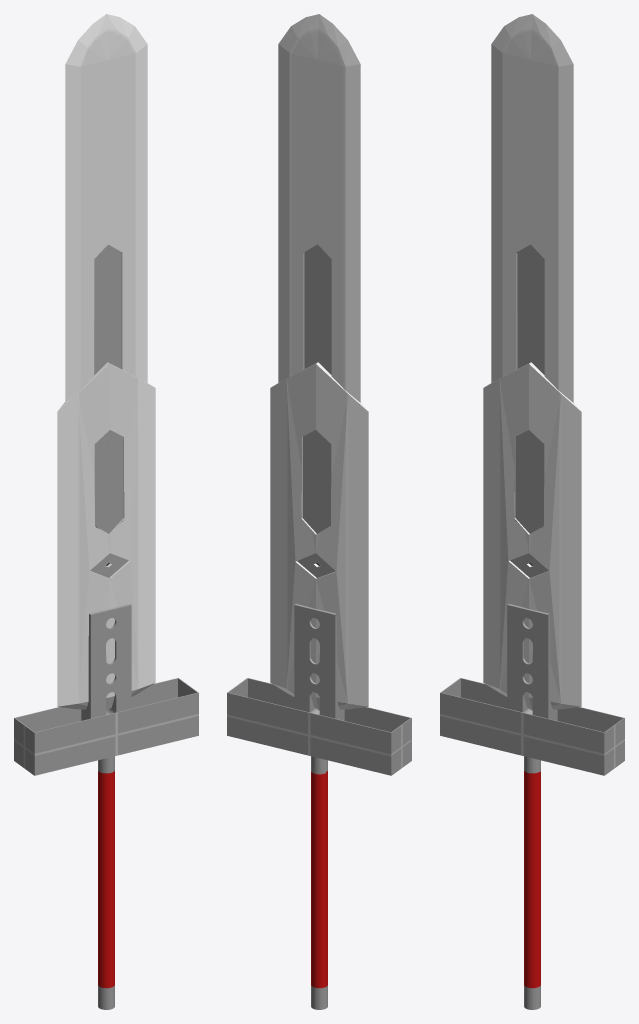
File: firstsword-closed-united.obj
The picture shows the model from 3 angles, left to right: view 1: azimuth 30°, elevation 25°; view 2: azimuth 150°, elevation 25°; view 3: azimuth 330°, elevation 25°; orthographic projection.
Visible parts, largest first — view 1: centerplate_center; view 2: centerplate_center; view 3: centerplate_center.
Boxes of the visible parts, <box> form: centerplate_center: <box>14,14,198,1009</box>; centerplate_center: <box>227,14,411,1009</box>; centerplate_center: <box>440,14,624,1009</box>.
Bounding box in the file's own units: 4 × 23.08 × 0.86.
